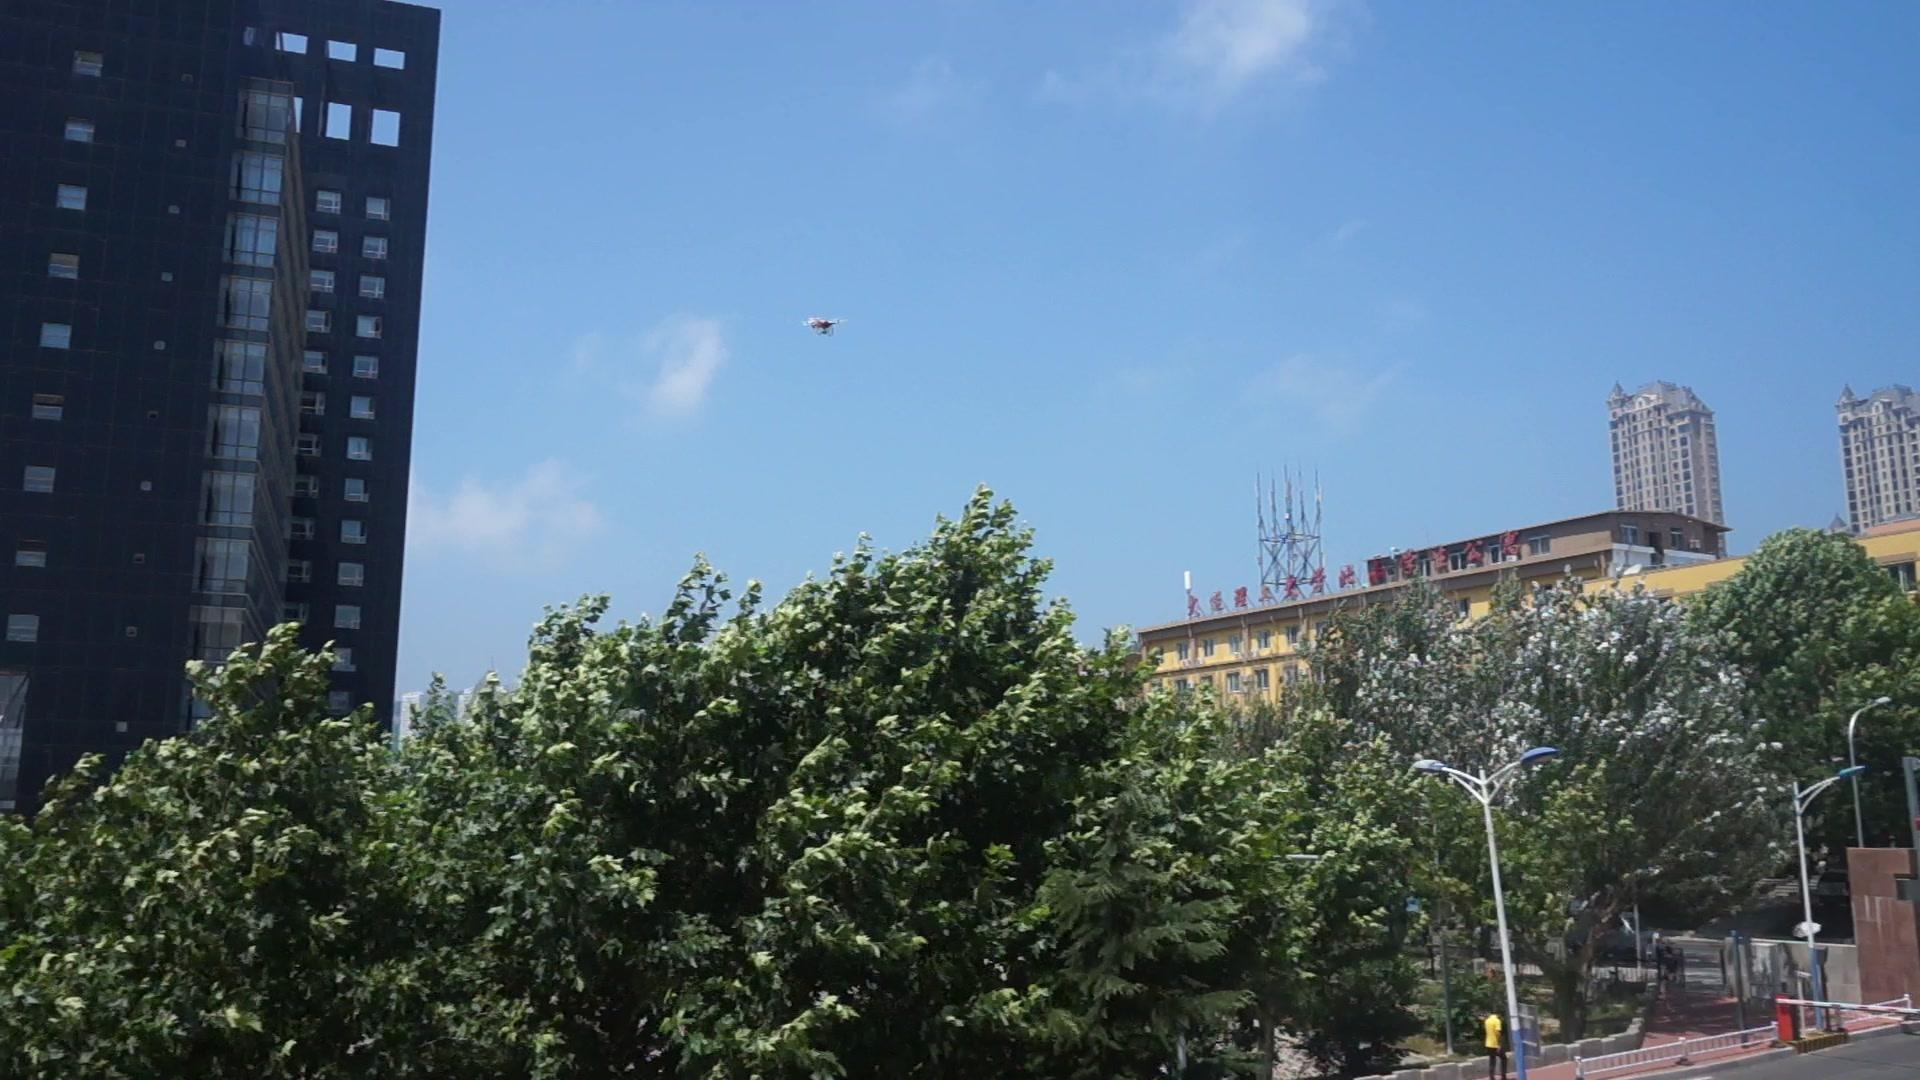UAV: (803, 316, 849, 339)
